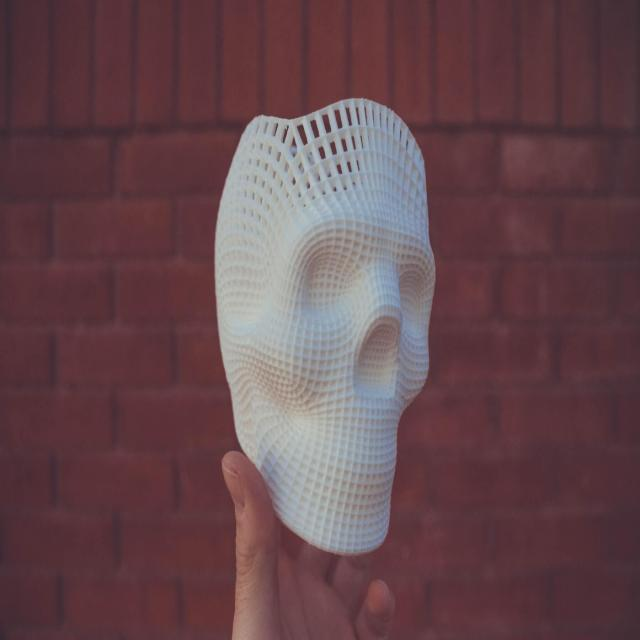Without deffect: (211, 94, 444, 572)
